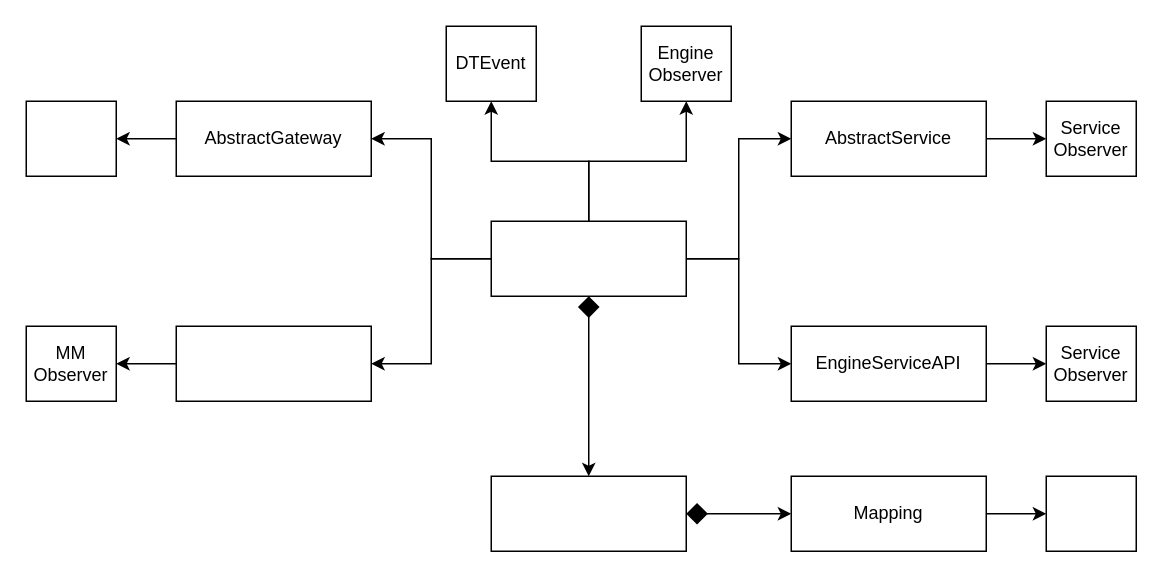
This 1163x578 diagram has some shape labels left out. The shapes that lost their labels are listed below. From the top down, each one's centre as x and y in pixels, then its label:
[70,138]: Gateway Observer
[588,258]: DigitalTwinEngine
[273,363]: AbstractModelManager
[588,513]: Synchronizer
[1090,513]: Mapping Observer
